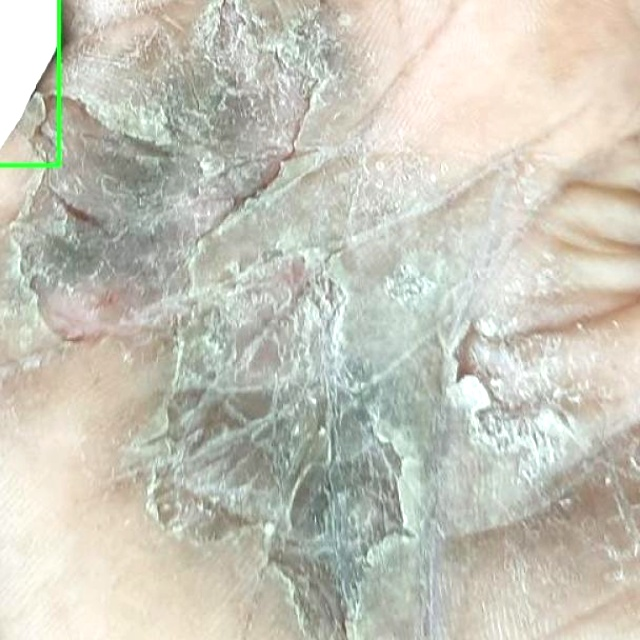Contact Dermatitis: (0, 0, 59, 164)
